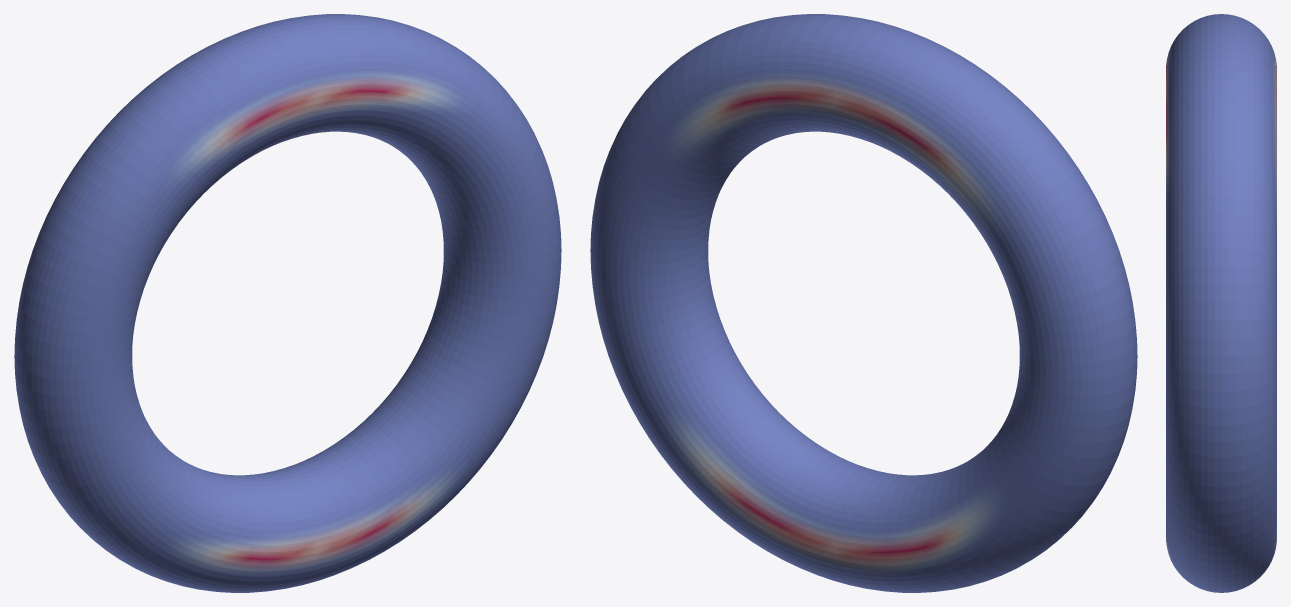
3 renders of one model, left to right at view 1: azimuth 30°, elevation 25°; view 2: azimuth 150°, elevation 25°; view 3: azimuth 270°, elevation 25°, orthographic. The views are drawn at different scales.
Visible parts, largest first — view 1: world; view 2: world; view 3: world.
Part boxes in pixels (<box>): world: <box>14,14,561,592</box>; world: <box>590,14,1137,592</box>; world: <box>1166,14,1276,592</box>.
Bounding box in the file's own units: 13.2 × 13.2 × 2.53.
